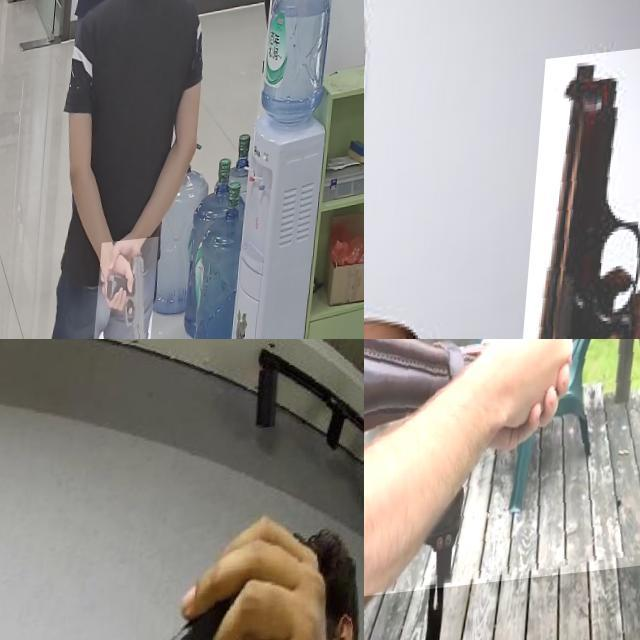gun-knife-thesis - v11 Yolov5 augmented: (364, 339, 640, 620), (522, 52, 640, 339), (100, 245, 166, 339)
